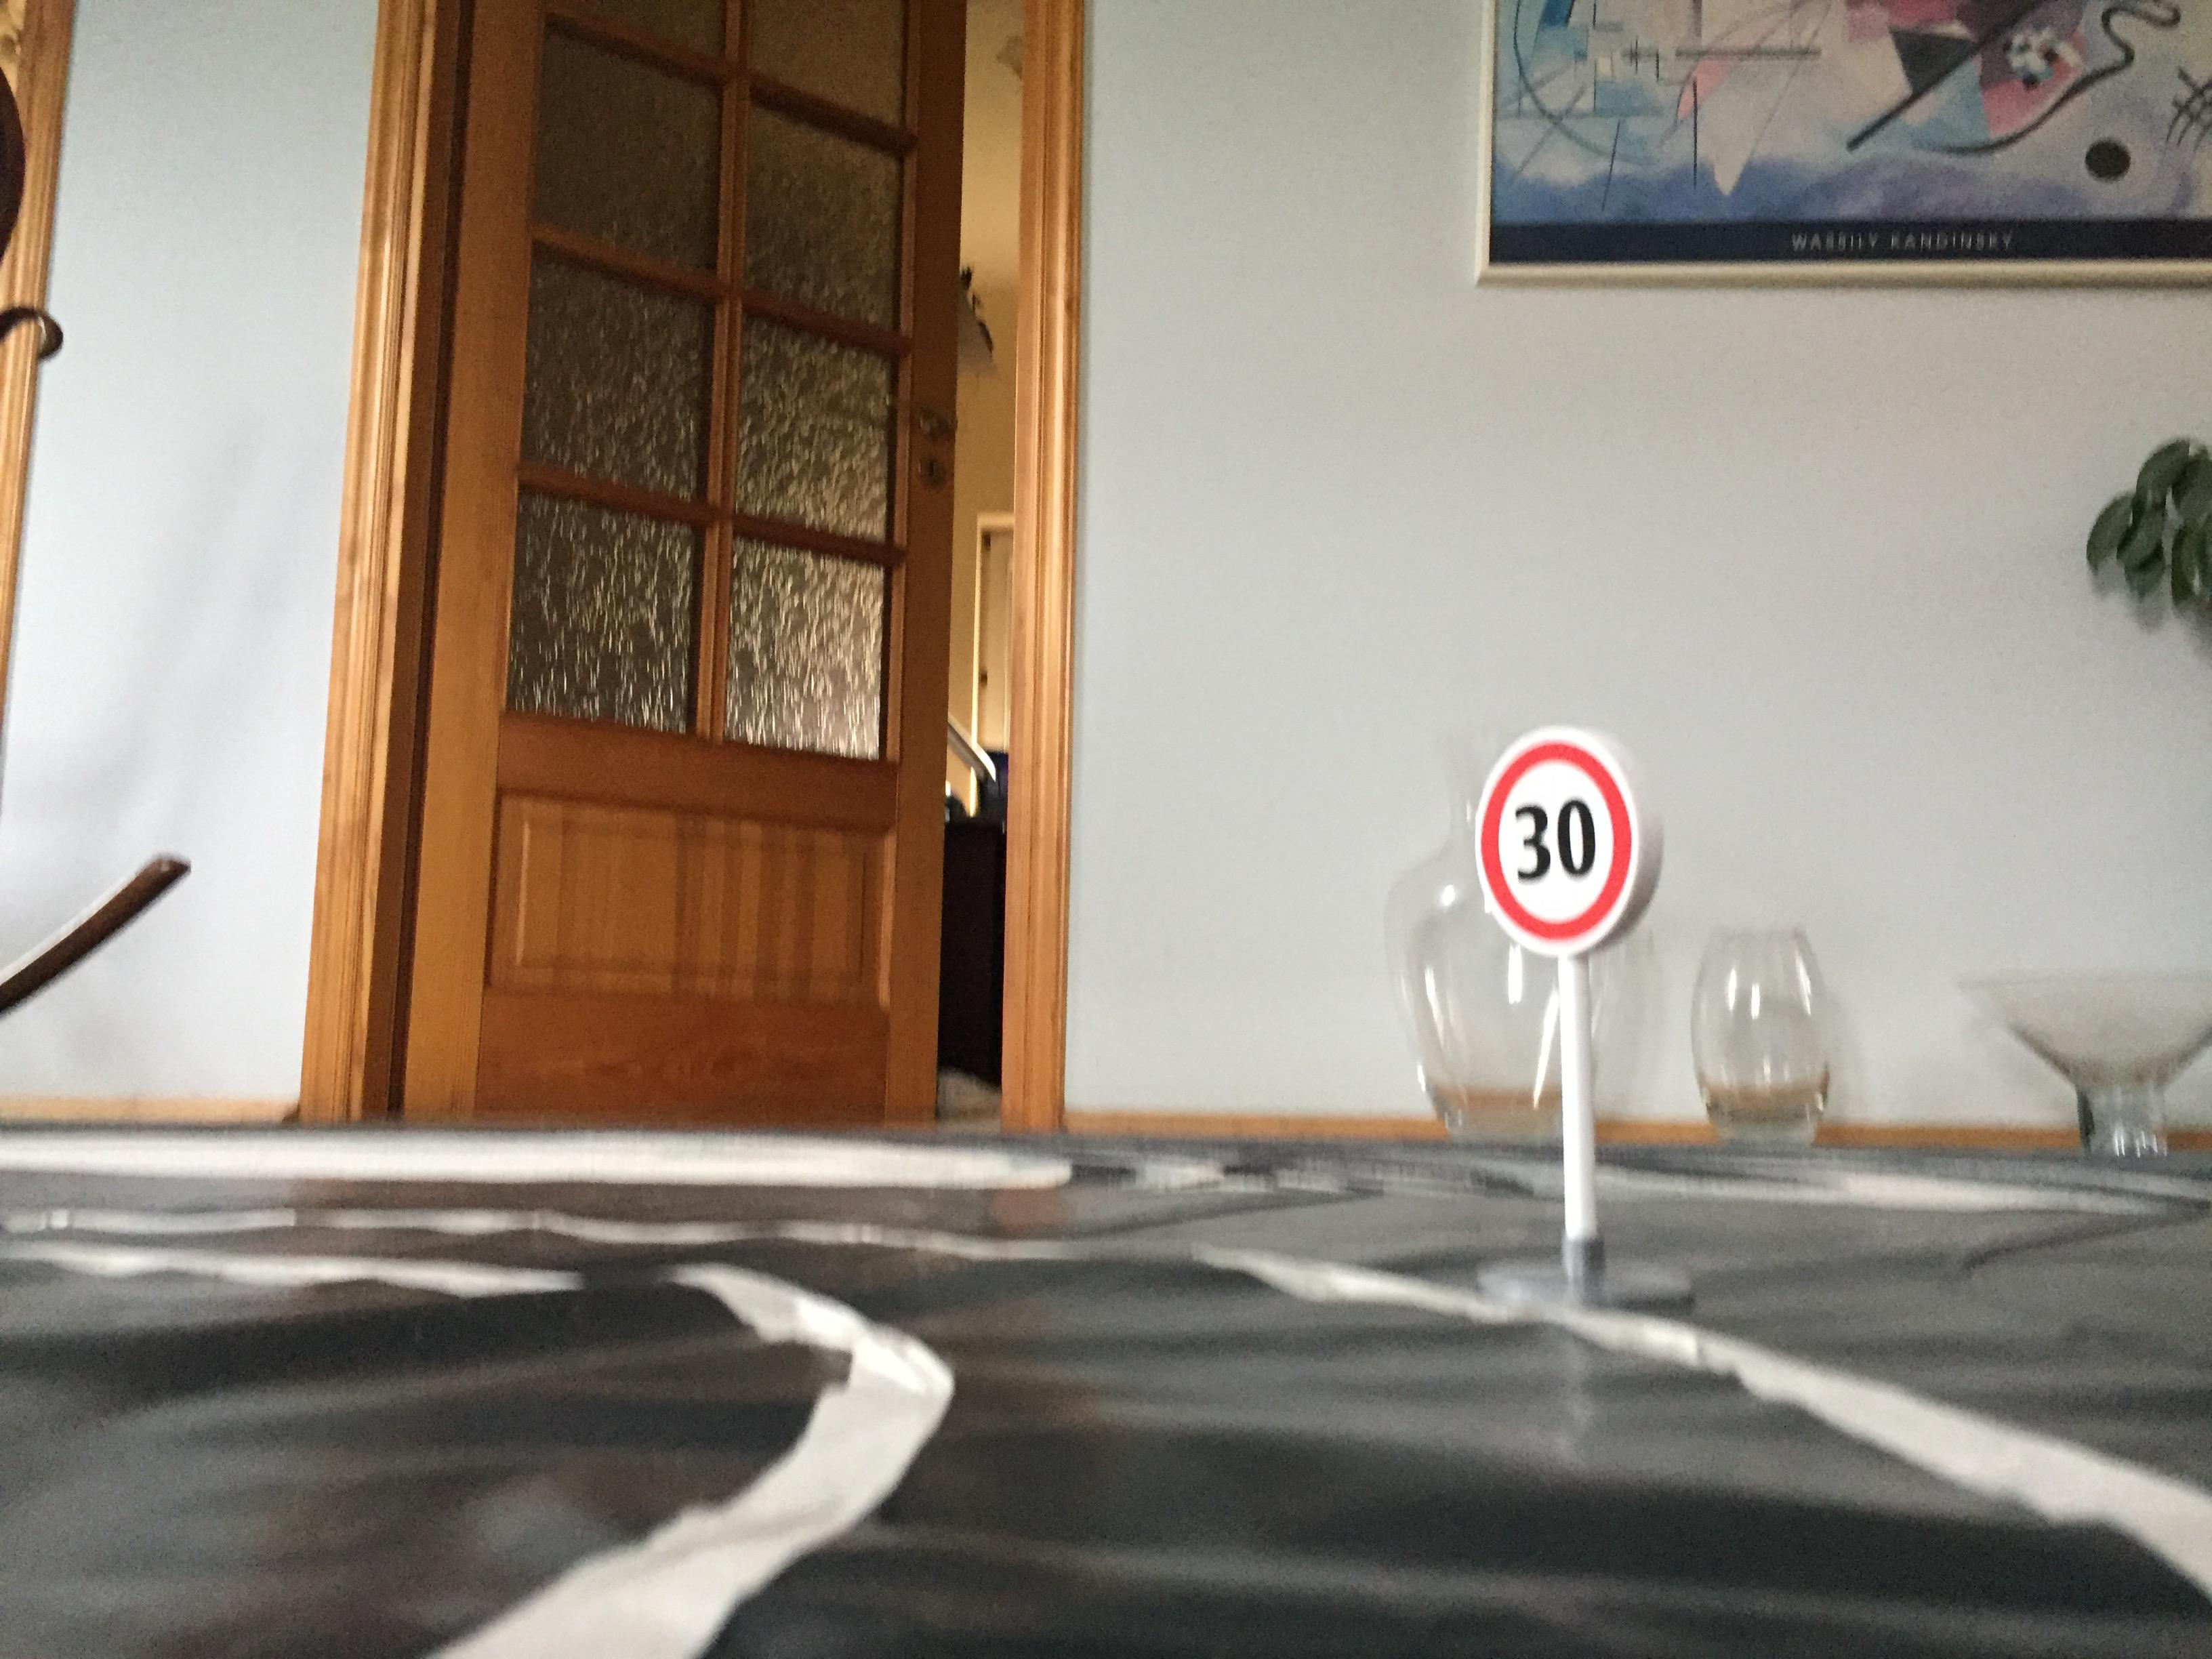speed: (1463, 720, 1663, 960)
